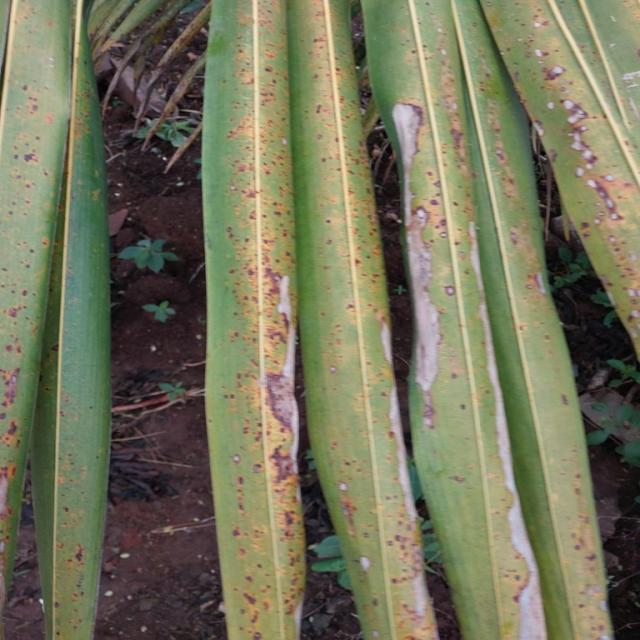gray leaf spot: (215, 37, 572, 639)
